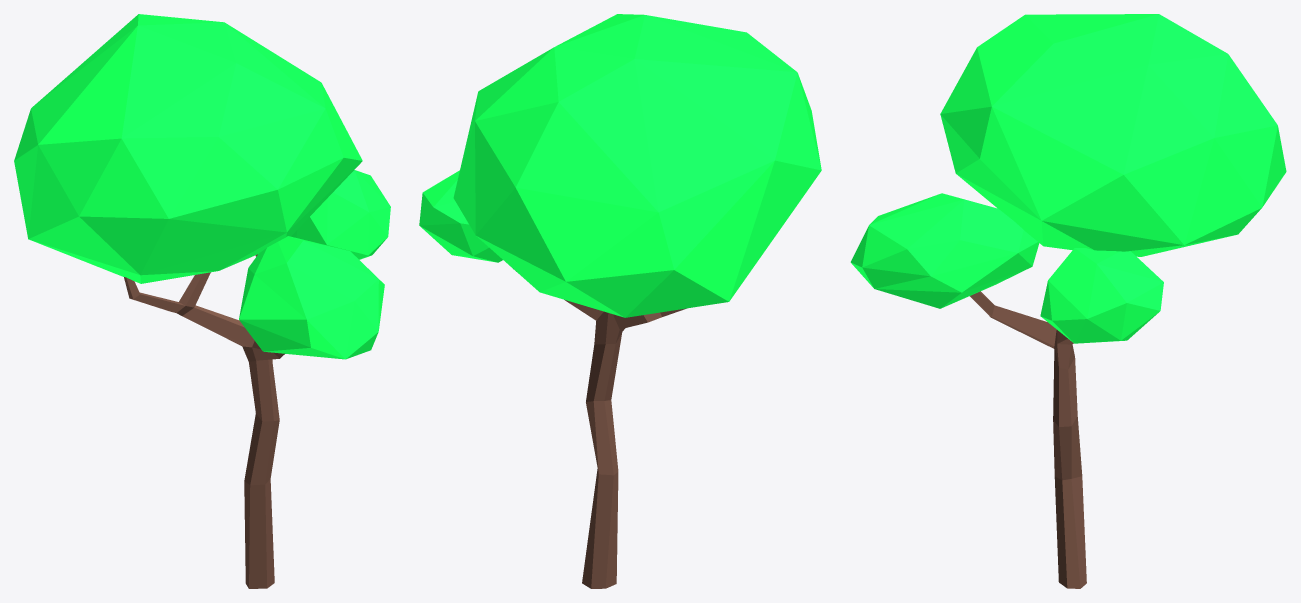
File: Goal_Wood.glb
3 renders of one model, left to right at view 1: azimuth 30°, elevation 25°; view 2: azimuth 150°, elevation 25°; view 3: azimuth 270°, elevation 25°, orthographic. The views are drawn at different scales.
Parts seen in each view (by area): view 1: Goal_Leaf, Goal_Wood; view 2: Goal_Leaf, Goal_Wood; view 3: Goal_Leaf, Goal_Wood.
Part boxes in pixels (x1=…): Goal_Leaf: x1=14, y1=14, x2=390, y2=359; Goal_Wood: x1=124, y1=254, x2=284, y2=588; Goal_Leaf: x1=419, y1=14, x2=821, y2=317; Goal_Wood: x1=513, y1=269, x2=686, y2=588; Goal_Leaf: x1=850, y1=14, x2=1286, y2=343; Goal_Wood: x1=970, y1=291, x2=1086, y2=588.
Size of the model in its own units: 23.63 by 36.88 by 27.39.
